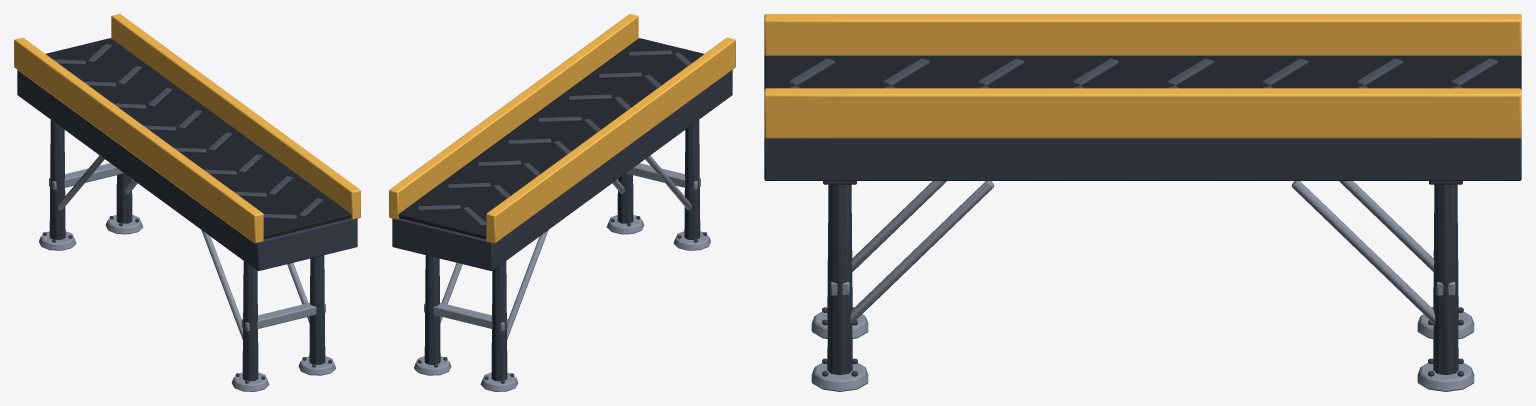
The model's file is band_bruecke.fbx.
The picture shows the model from 3 angles, left to right: view 1: azimuth 30°, elevation 25°; view 2: azimuth 150°, elevation 25°; view 3: azimuth 270°, elevation 25°; orthographic projection. The views are drawn at different scales.
Parts seen in each view (by area): view 1: band_bruecke_Koerper; view 2: band_bruecke_Koerper; view 3: band_bruecke_Koerper.
Part boxes in pixels (box(x1,y1,x2,y2)): band_bruecke_Koerper: box(14, 14, 360, 391); band_bruecke_Koerper: box(389, 14, 735, 391); band_bruecke_Koerper: box(764, 14, 1521, 391).
Bounding box in the file's own units: 1.02 × 1.75 × 4.
